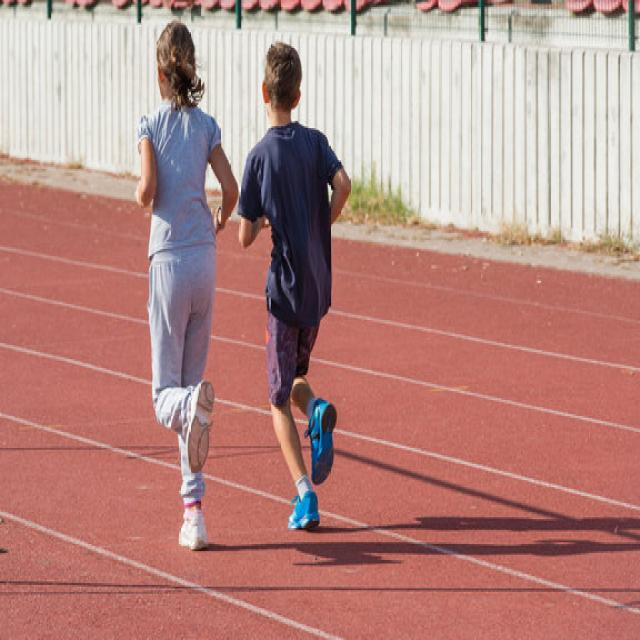Person: (134, 22, 238, 550), (240, 41, 351, 531)
